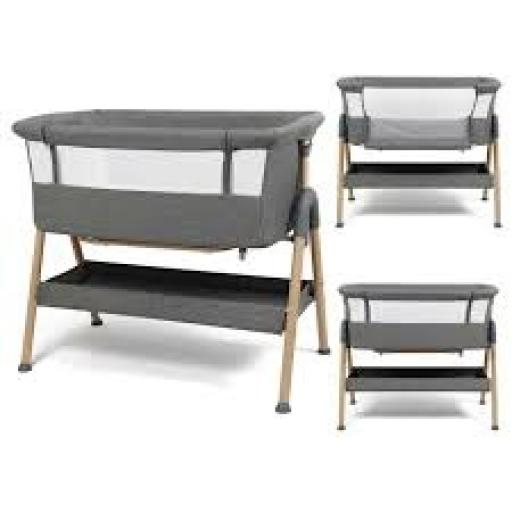crib: (14, 112, 327, 411), (337, 78, 500, 225), (340, 283, 498, 430)
